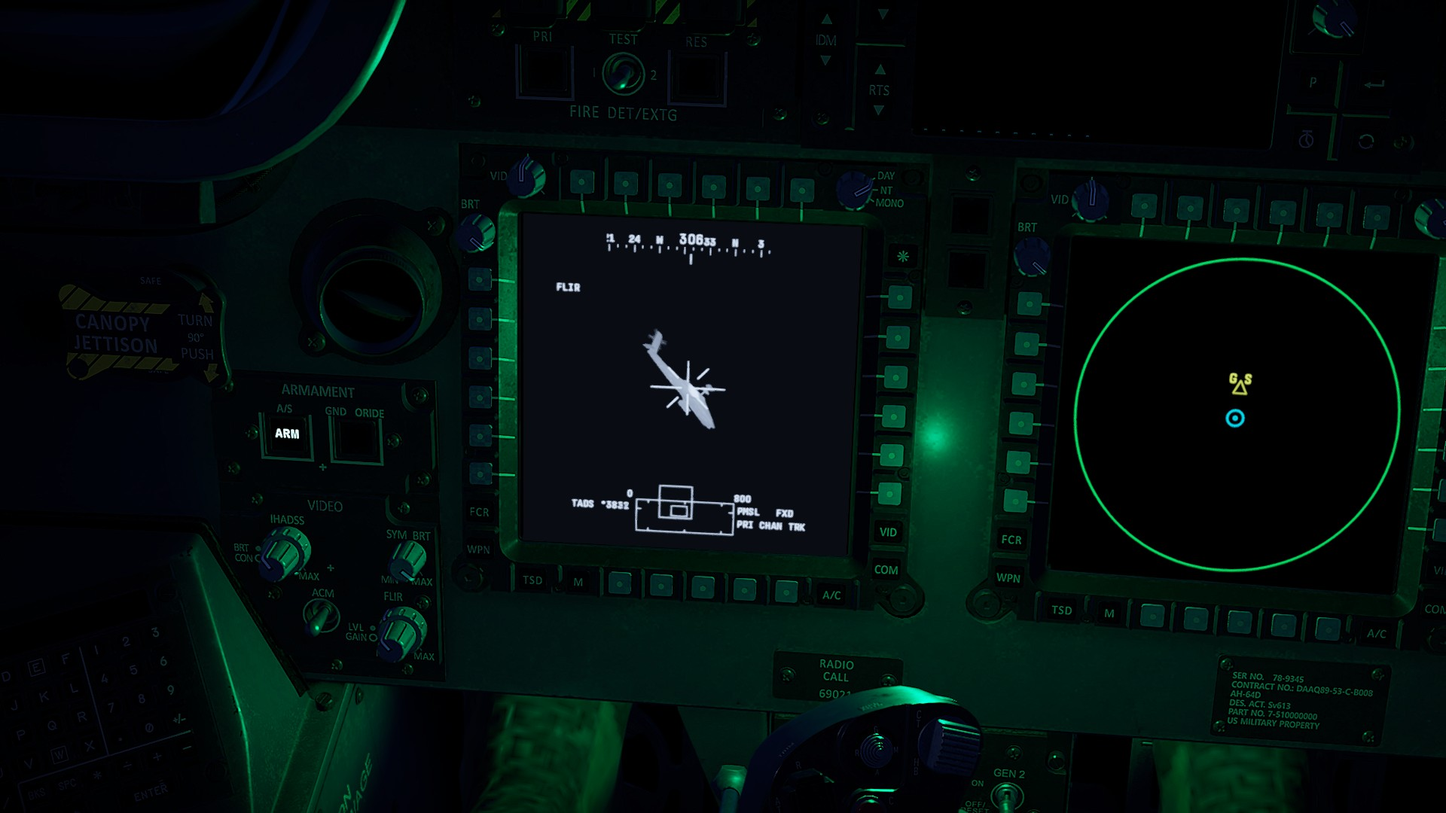ah64: (641, 329, 726, 430)
